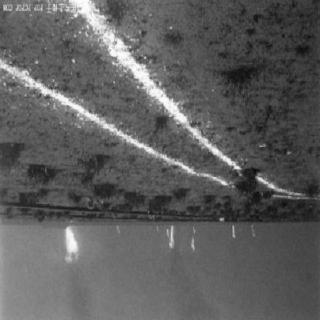Fire: (63, 225, 83, 269), (248, 222, 258, 242), (232, 225, 238, 242), (115, 225, 122, 238)
Smoke: (166, 260, 202, 312), (73, 273, 93, 309)
other: (3, 2, 240, 184), (257, 171, 313, 207)
